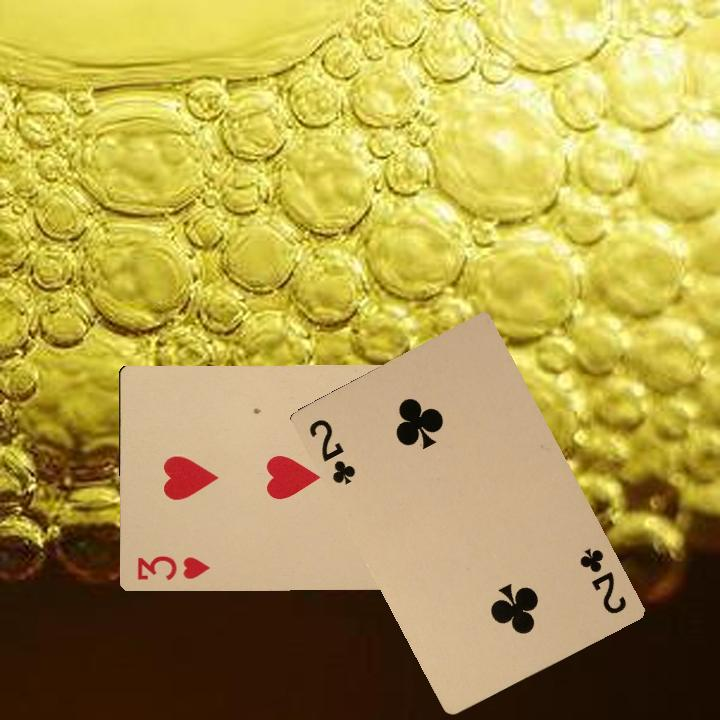2c: (575, 543, 630, 617), (304, 415, 358, 487)
3h: (133, 551, 212, 583)
